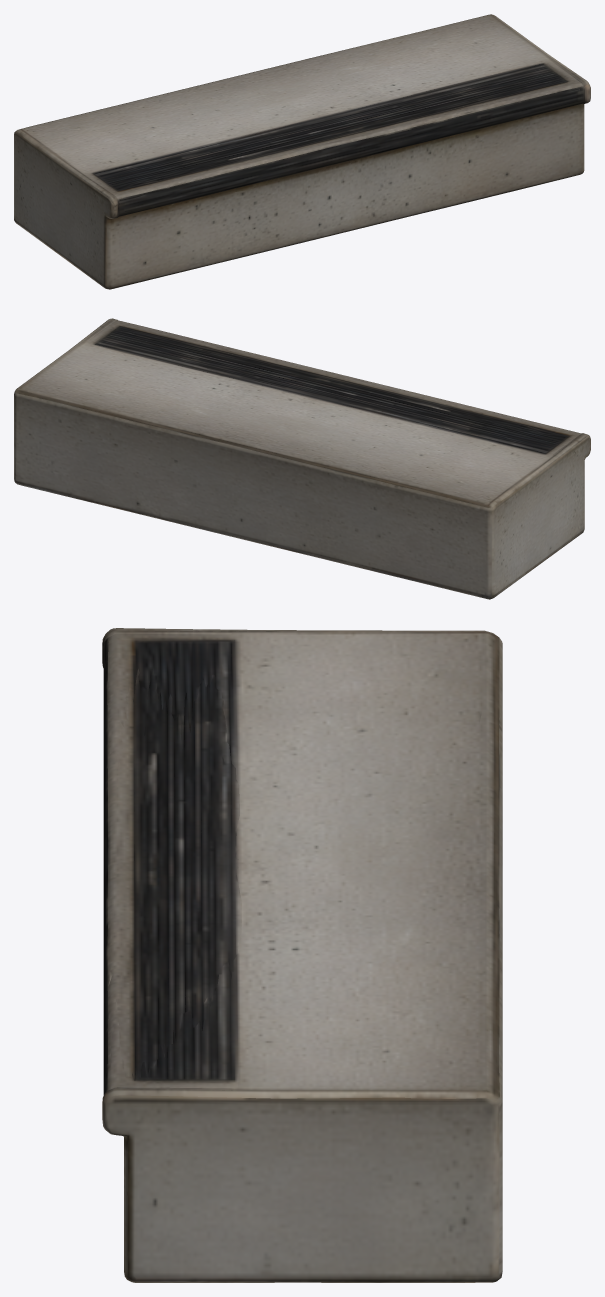
Rendered from stair.glb.
3 renders of one model, top to bottom at view 1: azimuth 30°, elevation 25°; view 2: azimuth 150°, elevation 25°; view 3: azimuth 270°, elevation 25°, orthographic. The views are drawn at different scales.
Parts seen in each view (by area): view 1: convert; view 2: convert; view 3: convert.
Part boxes in pixels (x1=…): convert: x1=14, y1=14, x2=590, y2=289; convert: x1=14, y1=318, x2=590, y2=599; convert: x1=102, y1=628, x2=502, y2=1282.
Bounding box in the file's own units: 1.12 × 0.2144 × 0.4036.
1 material, 1 textured.
